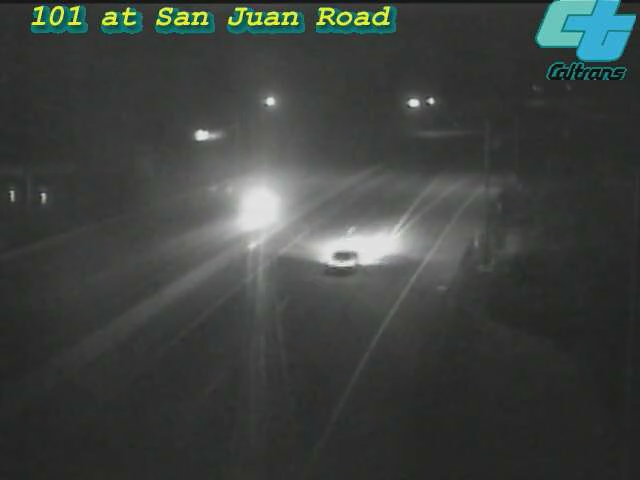vehicle: (304, 219, 384, 299), (210, 167, 290, 247)
